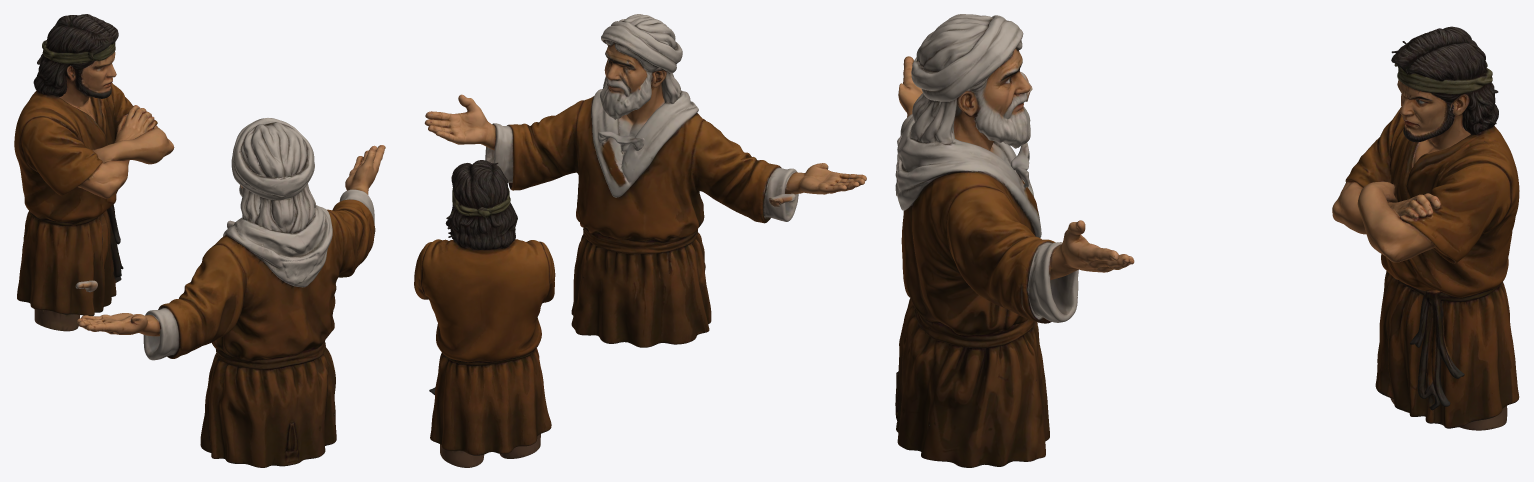
File: page-08.glb
3 renders of one model, left to right at view 1: azimuth 30°, elevation 25°; view 2: azimuth 150°, elevation 25°; view 3: azimuth 270°, elevation 25°, orthographic. The views are drawn at different scales.
Visible parts, largest first — view 1: tripo_node_b3f84f59-5d38-4721-b4ef-e0c1913dbb4f; view 2: tripo_node_b3f84f59-5d38-4721-b4ef-e0c1913dbb4f; view 3: tripo_node_b3f84f59-5d38-4721-b4ef-e0c1913dbb4f.
Part boxes in pixels (x1=…): tripo_node_b3f84f59-5d38-4721-b4ef-e0c1913dbb4f: x1=14, y1=14, x2=385, y2=467; tripo_node_b3f84f59-5d38-4721-b4ef-e0c1913dbb4f: x1=414, y1=14, x2=866, y2=467; tripo_node_b3f84f59-5d38-4721-b4ef-e0c1913dbb4f: x1=895, y1=14, x2=1519, y2=467.
Bounding box in the file's own units: 0.9249 × 0.7382 × 0.9998.
1 material, 1 textured.
